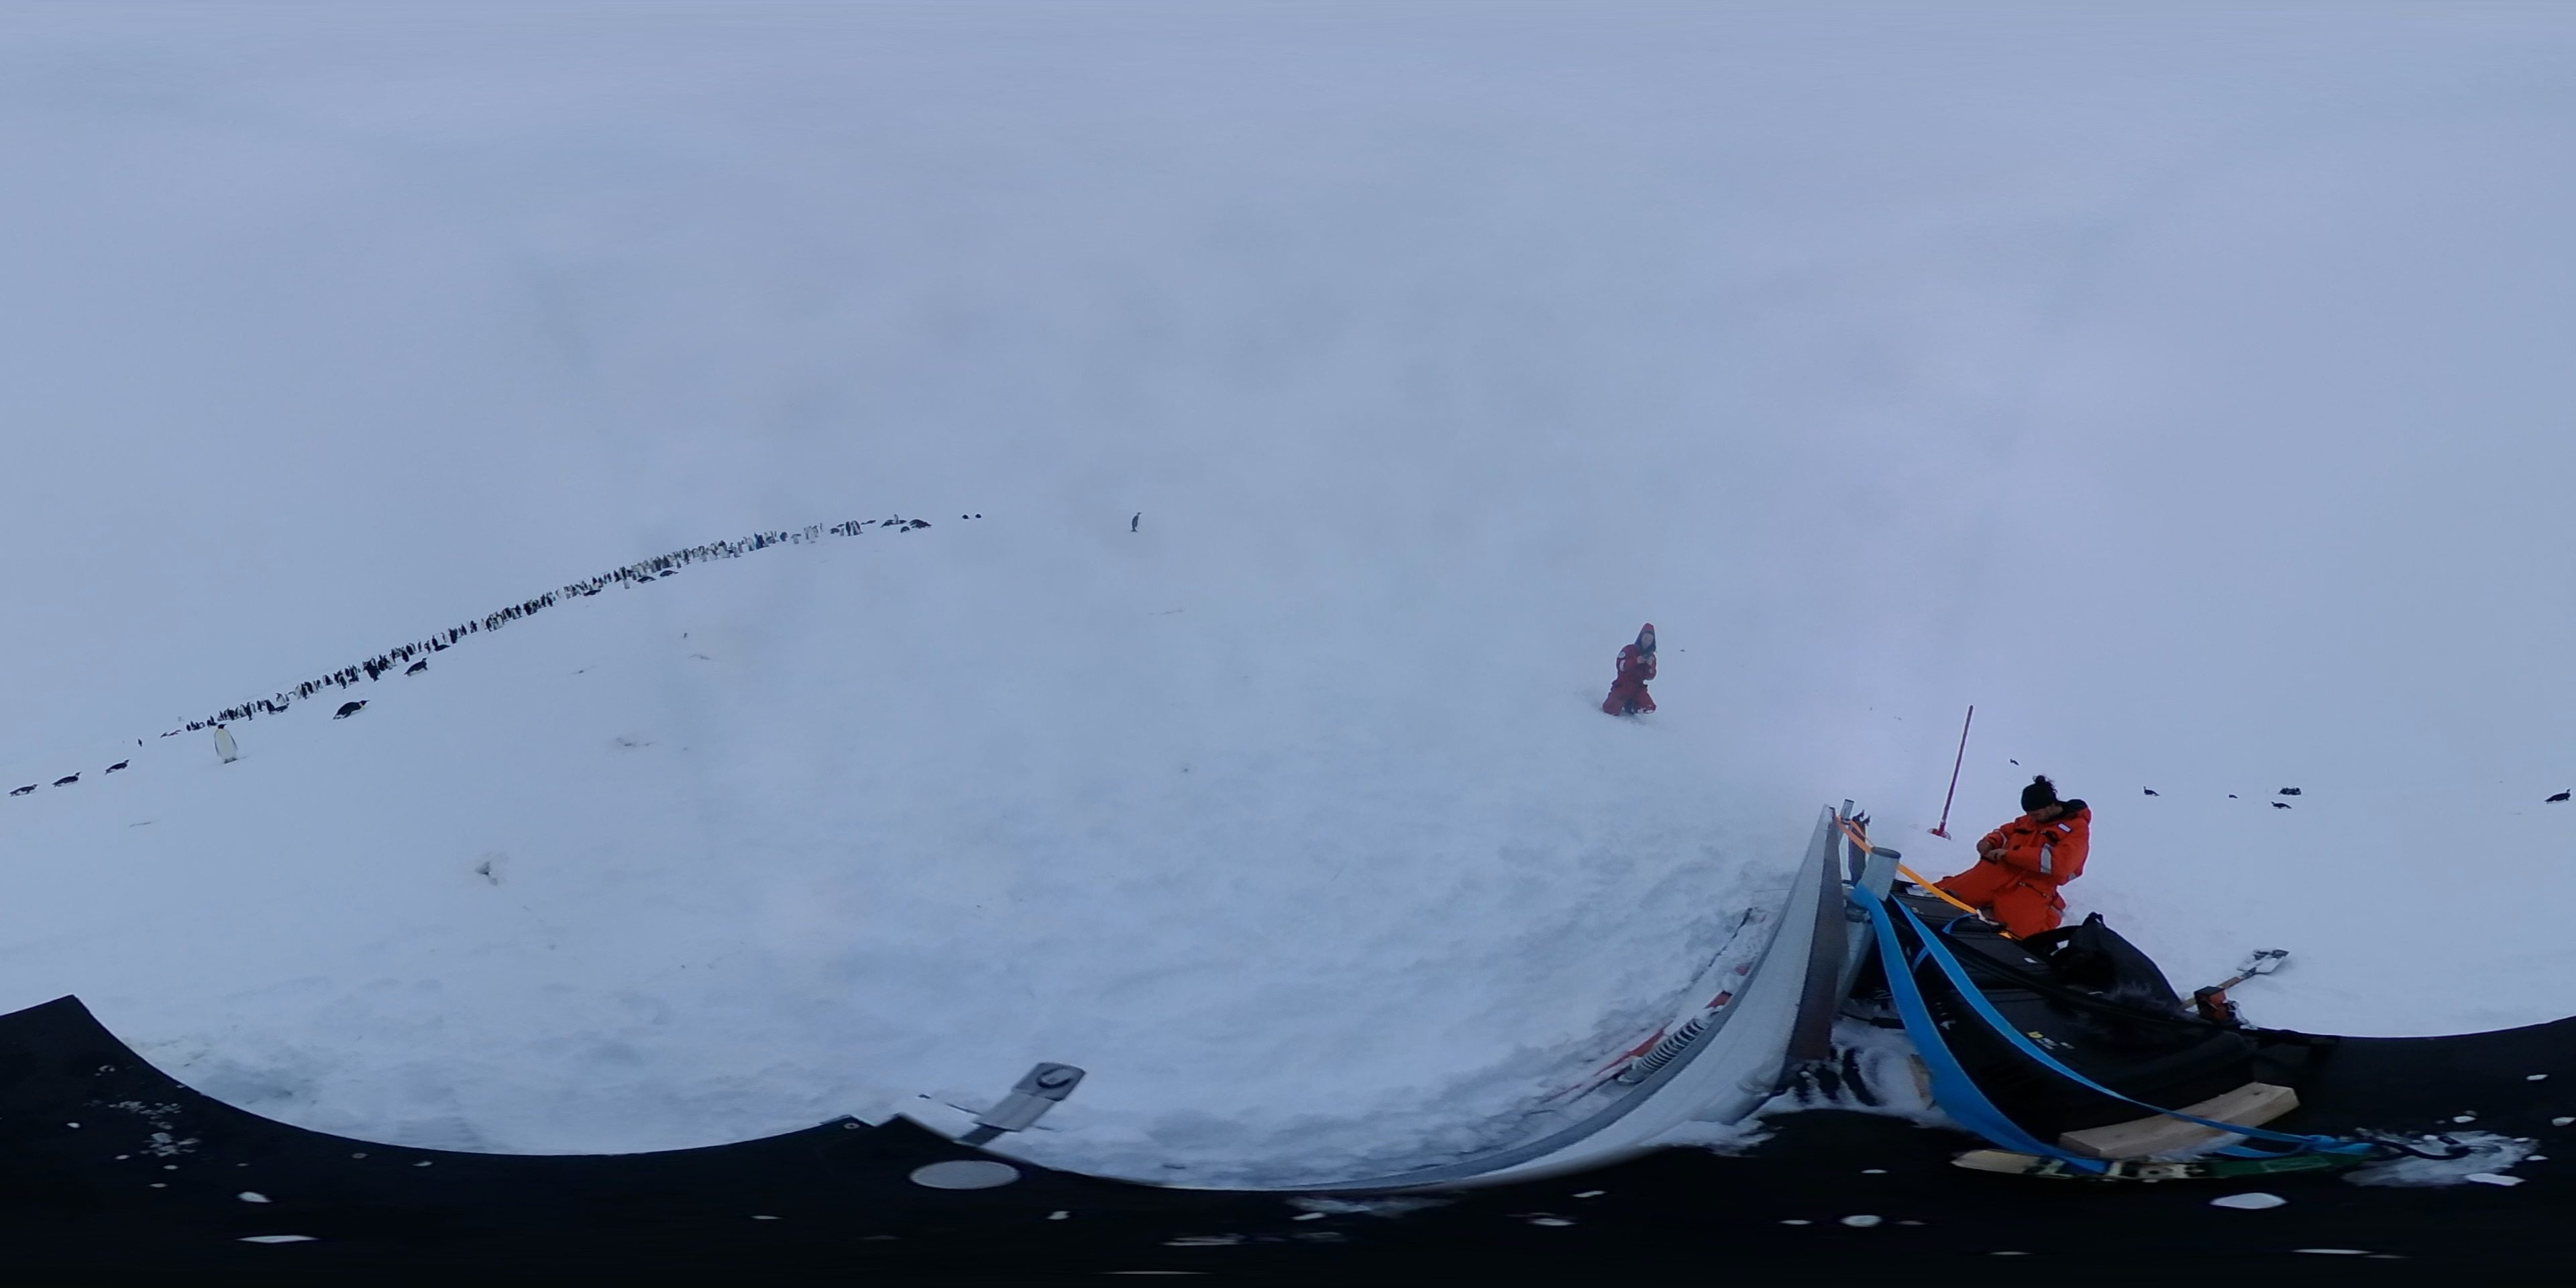adult_standing_penguin: (209, 721, 245, 767), (1130, 513, 1142, 534)
adult_toboggan_penguin: (329, 697, 370, 724), (2541, 784, 2573, 803), (7, 782, 43, 798), (102, 756, 131, 775), (51, 770, 82, 789), (404, 657, 430, 678), (2269, 798, 2297, 815), (2141, 782, 2164, 798), (2006, 757, 2024, 766)
researcher: (1922, 770, 2096, 935), (1598, 621, 1664, 718)
